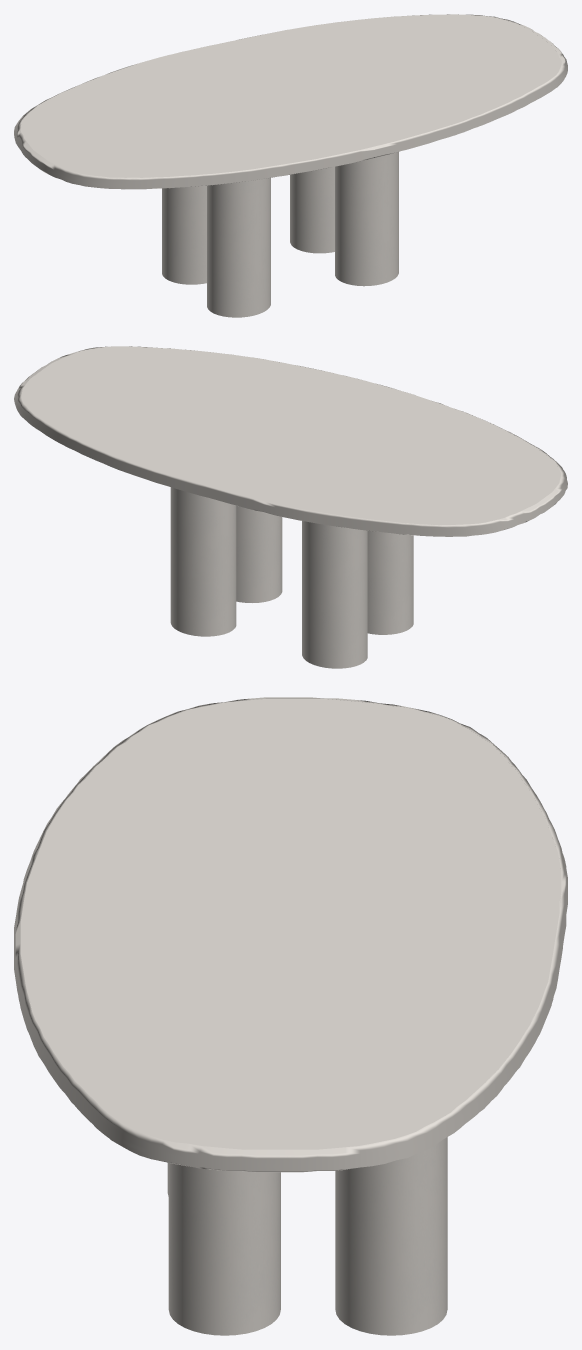
The model's file is pearlwhite_danish_round_grove.glb.
3 views of the same model, one above another, from view 1: azimuth 30°, elevation 25°; view 2: azimuth 150°, elevation 25°; view 3: azimuth 270°, elevation 25° (orthographic). The views are drawn at different scales.
Parts seen in each view (by area): view 1: round_danish, grove; view 2: round_danish, grove; view 3: round_danish, grove.
Boxes of the visible parts, box(x1,y1,x2,y2) form: round_danish: box(14, 14, 567, 189); grove: box(162, 152, 398, 317); round_danish: box(14, 346, 567, 536); grove: box(170, 487, 413, 668); round_danish: box(14, 697, 567, 1172); grove: box(167, 1137, 447, 1335).
Size of the model in its own units: 7.5 by 2.51 by 3.8.
Materials: 1 (1 with a texture image).
